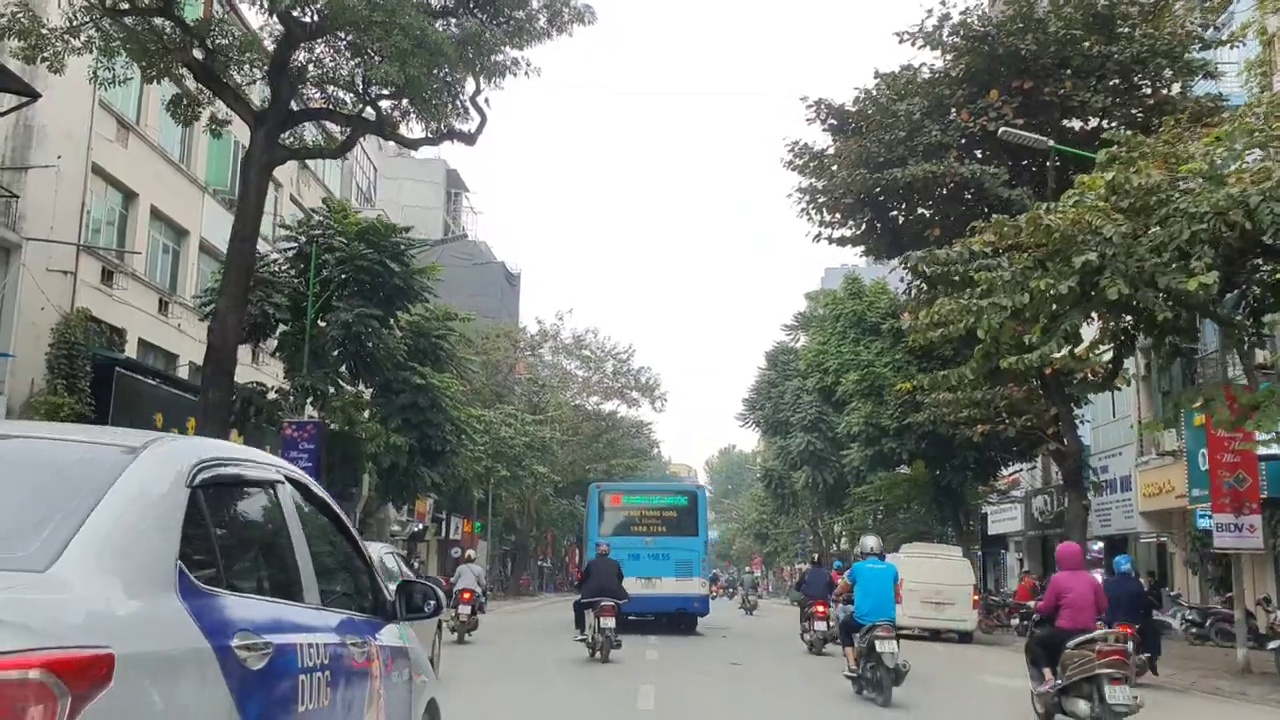person: (930, 600, 945, 614), (1008, 617, 1020, 624)
